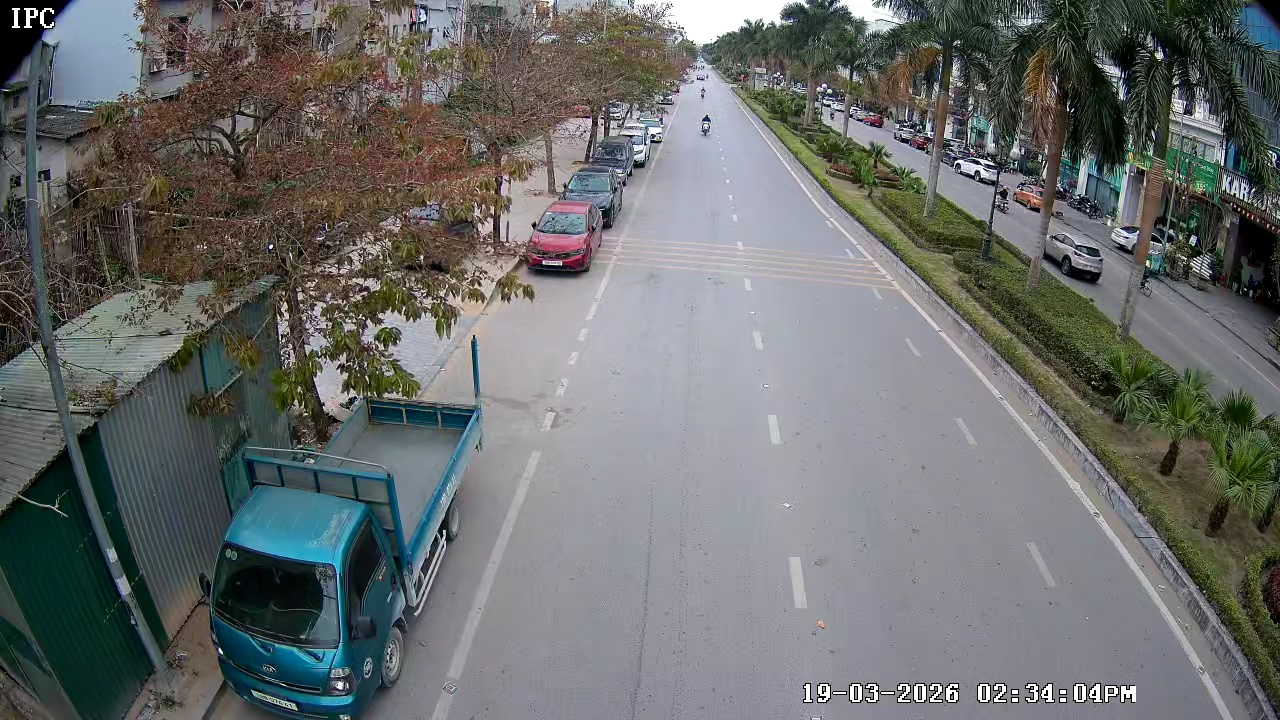car: (525, 200, 598, 276), (562, 169, 622, 226)
motorbike: (701, 112, 712, 137)
